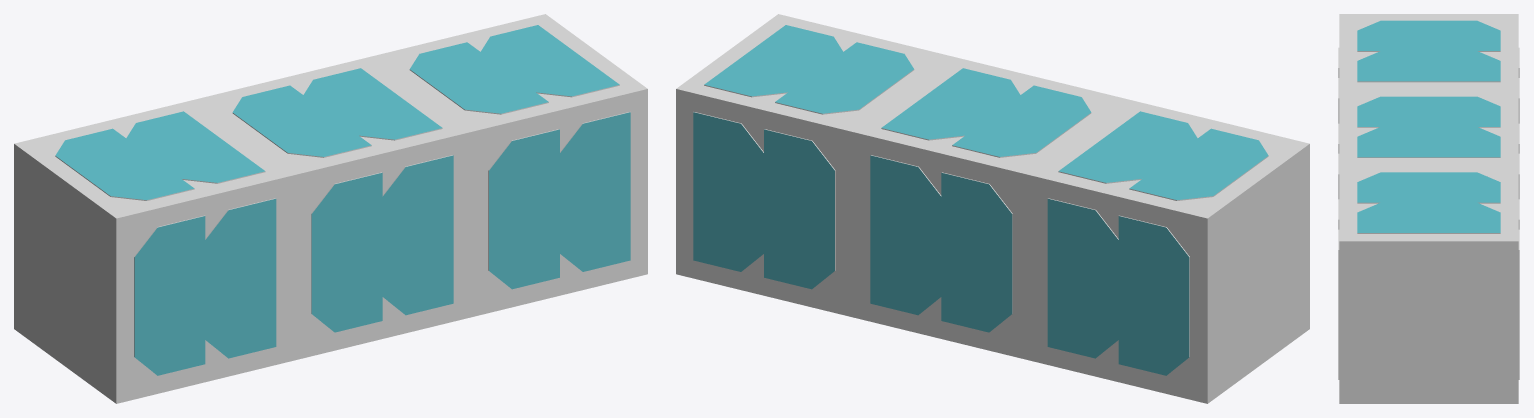
File: 3U_SP4Sides.dae
The picture shows the model from 3 angles, left to right: view 1: azimuth 30°, elevation 25°; view 2: azimuth 150°, elevation 25°; view 3: azimuth 270°, elevation 25°; orthographic projection. The views are drawn at different scales.
Visible parts, largest first — view 1: _U_SP4Sides, Y_Minus_Cells, Z_Plus_Cells; view 2: _U_SP4Sides, Y_Plus_Cells, Z_Plus_Cells; view 3: _U_SP4Sides, Z_Plus_Cells.
Boxes of the visible parts, bbox=[...] form: _U_SP4Sides: bbox=[14, 14, 647, 403]; Y_Minus_Cells: bbox=[134, 112, 630, 375]; Z_Plus_Cells: bbox=[55, 25, 619, 200]; _U_SP4Sides: bbox=[676, 14, 1309, 403]; Y_Plus_Cells: bbox=[693, 112, 1189, 375]; Z_Plus_Cells: bbox=[704, 25, 1268, 200]; _U_SP4Sides: bbox=[1338, 14, 1519, 403]; Z_Plus_Cells: bbox=[1357, 20, 1500, 232].
Size of the model in its own units: 0.3 by 0.101 by 0.101.
